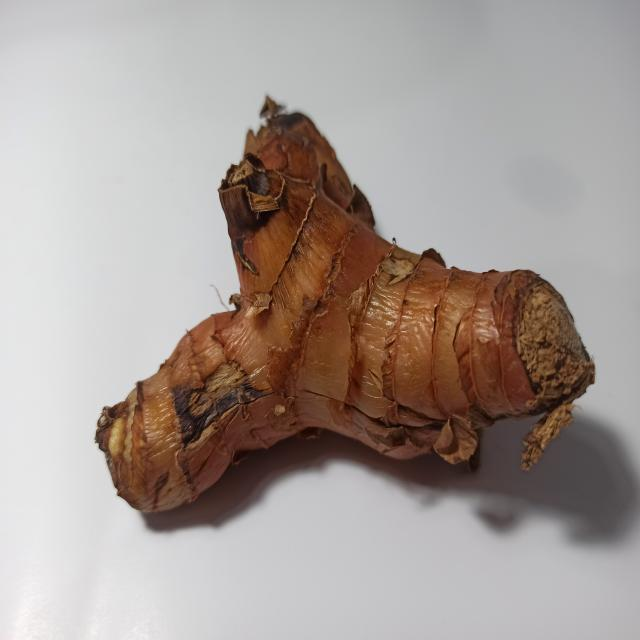ginger: (101, 90, 571, 478)
